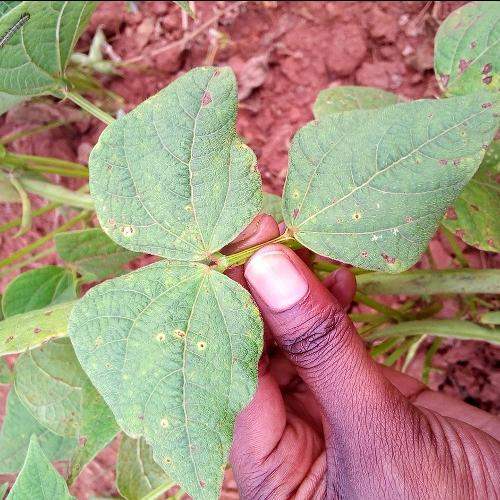hawar: (343, 199, 432, 282), (139, 310, 234, 386), (427, 6, 500, 93), (176, 66, 258, 116), (111, 406, 184, 461), (263, 172, 323, 233), (92, 190, 158, 242)
